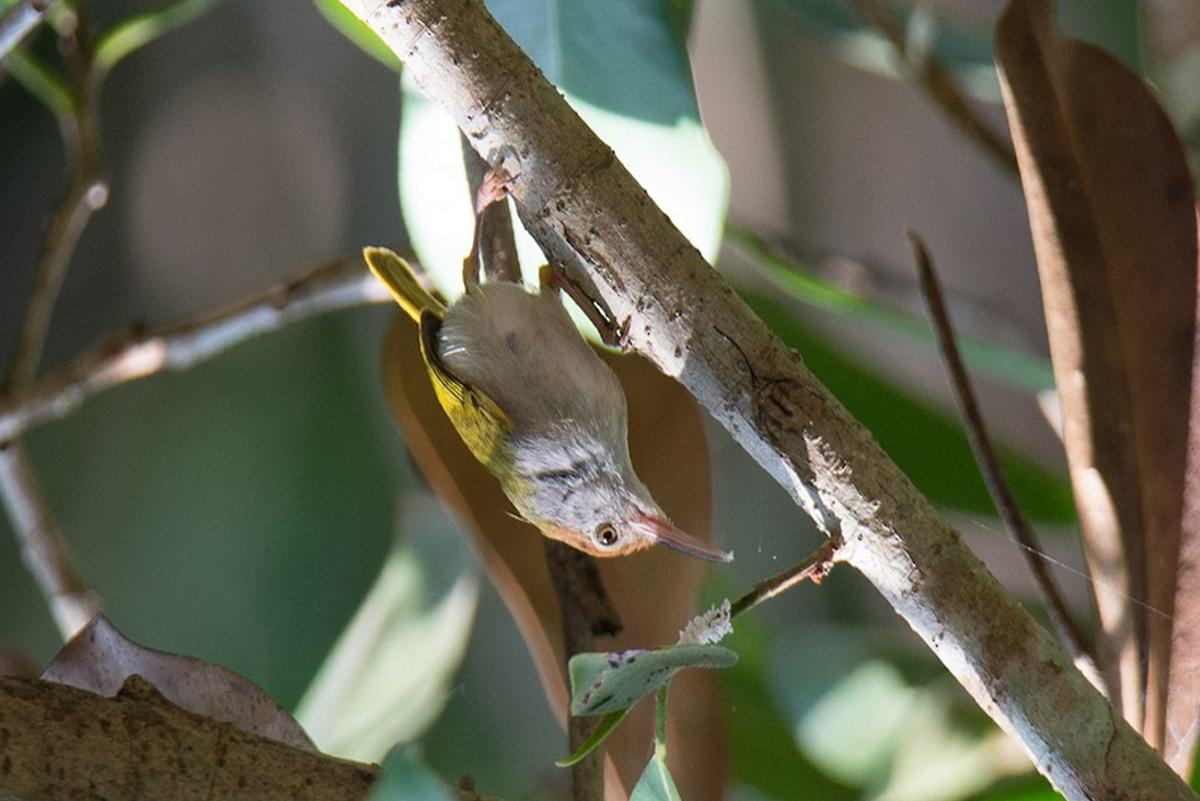tailorbird: (353, 198, 753, 571)
